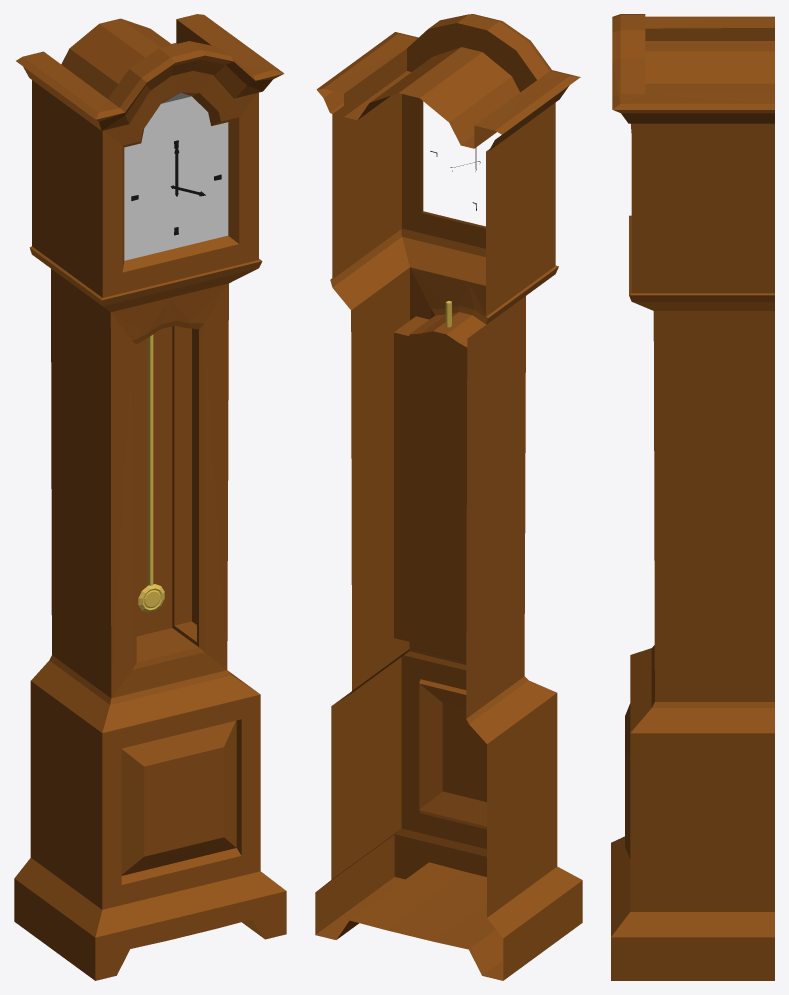
Rendered from Grandfathers Clock.glb.
The picture shows the model from 3 angles, left to right: view 1: azimuth 30°, elevation 25°; view 2: azimuth 150°, elevation 25°; view 3: azimuth 270°, elevation 25°; orthographic projection. The views are drawn at different scales.
Visible parts, largest first — view 1: Grandfathers_clock; view 2: Grandfathers_clock; view 3: Grandfathers_clock.
Part boxes in pixels (box(x1,y1,x2,y2)): Grandfathers_clock: box(14, 14, 286, 980); Grandfathers_clock: box(315, 14, 582, 980); Grandfathers_clock: box(611, 14, 774, 980).
Bounding box in the file's own units: 0.9095 × 4.09 × 0.6671.
Materials: 2 (1 with a texture image).
